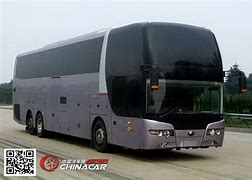bigcar: (9, 20, 226, 153)
